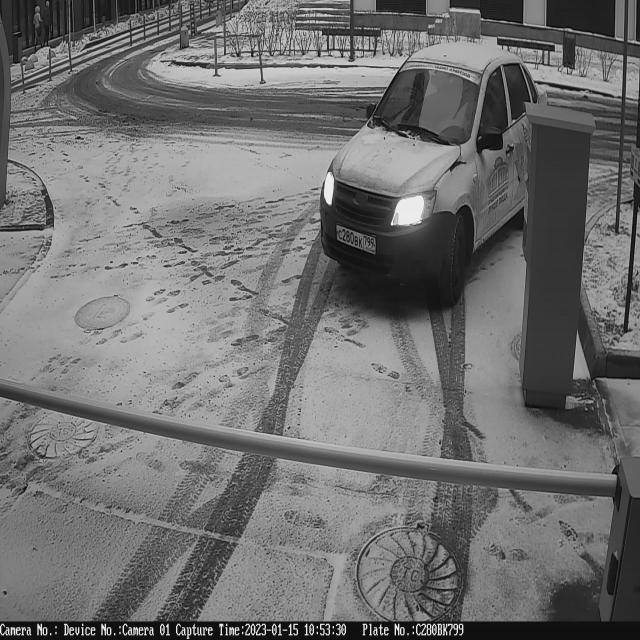car-plate-numbers: (335, 223, 379, 262)
